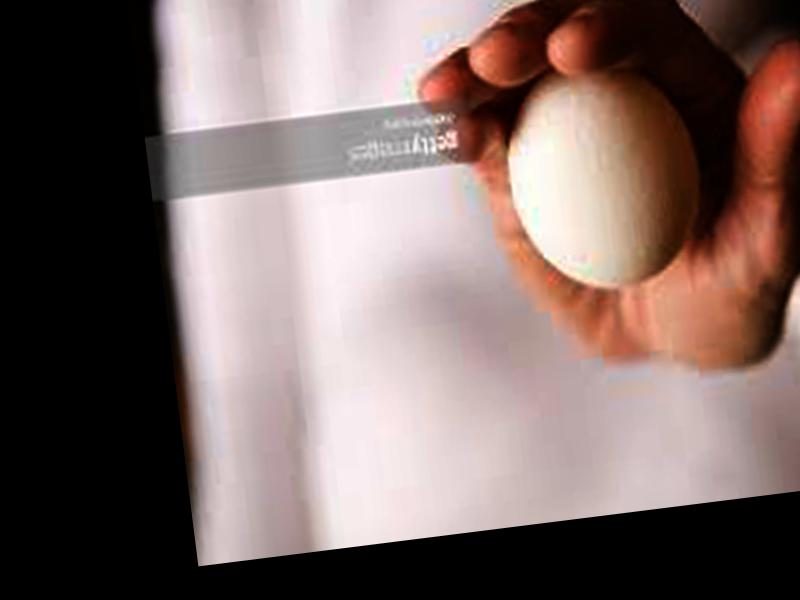Eggs: (497, 55, 715, 297)
